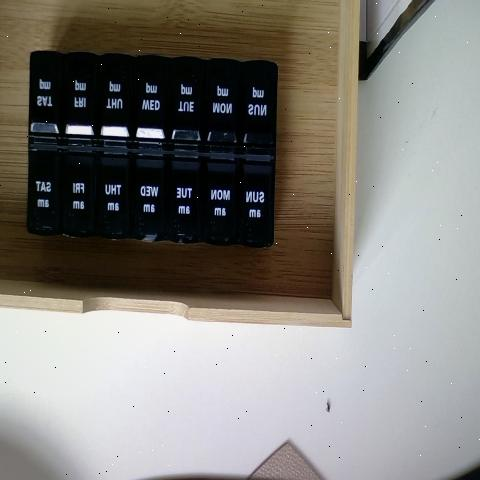FRI-am: (68, 150, 98, 238)
FRI-pm: (67, 55, 98, 138)
MON-am: (207, 150, 238, 238)
MON-pm: (212, 56, 251, 140)
SAT-am: (27, 140, 65, 236)
SAT-pm: (28, 50, 65, 142)
SUN-am: (240, 152, 276, 240)
SUN-pm: (244, 63, 278, 142)
THU-am: (101, 150, 134, 236)
THU-pm: (98, 55, 136, 142)
TUE-am: (174, 148, 207, 235)
TUE-pm: (172, 53, 207, 143)
WED-am: (136, 146, 169, 238)
WED-pm: (136, 58, 172, 148)
